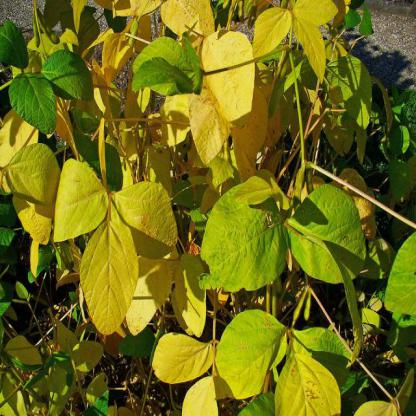soybean leaf: (196, 179, 287, 302), (75, 215, 141, 340), (290, 184, 371, 284), (214, 309, 288, 404), (42, 153, 112, 250), (109, 176, 183, 262), (289, 317, 358, 398), (381, 230, 415, 362), (6, 68, 60, 139), (40, 44, 99, 105)
